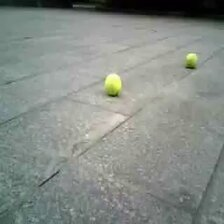tennis: (104, 73, 121, 92), (185, 53, 196, 65)
